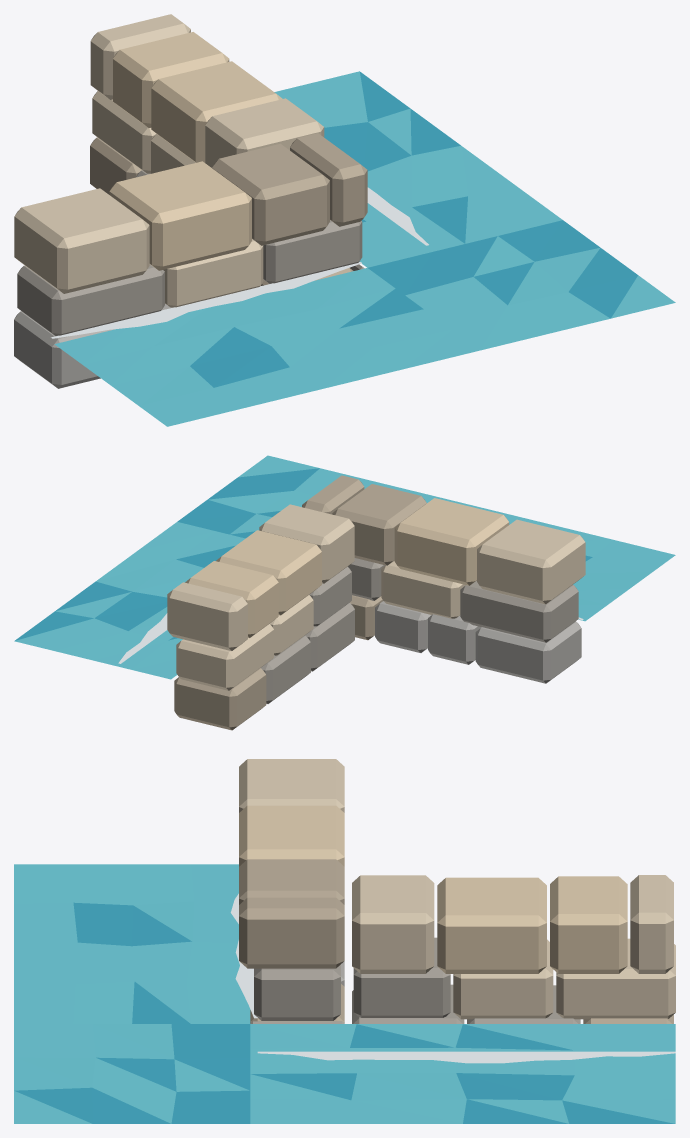
File: water_edge_corner.glb
3 renders of one model, top to bottom at view 1: azimuth 30°, elevation 25°; view 2: azimuth 150°, elevation 25°; view 3: azimuth 270°, elevation 25°, orthographic. The views are drawn at different scales.
Parts seen in each view (by area): view 1: water_edge_corner, part_foam; view 2: water_edge_corner, part_foam; view 3: water_edge_corner, part_foam.
Boxes of the visible parts, x1,y1,x2,y2 form: water_edge_corner: (14,14,675,426); part_foam: (51,187,428,338); water_edge_corner: (14,455,675,730); part_foam: (118,613,583,663); water_edge_corner: (14,759,675,1123); part_foam: (230,893,675,1063).
Size of the model in its own units: 3.25 by 0.9584 by 3.5.
